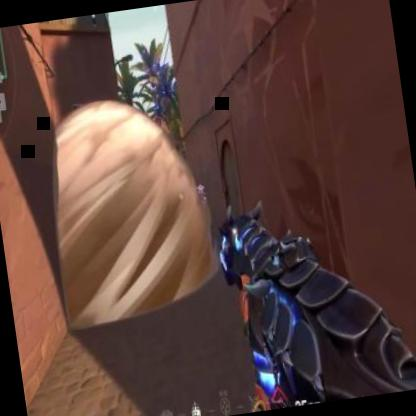enemy: (191, 182, 214, 245)
enemy_head: (196, 183, 204, 196)
